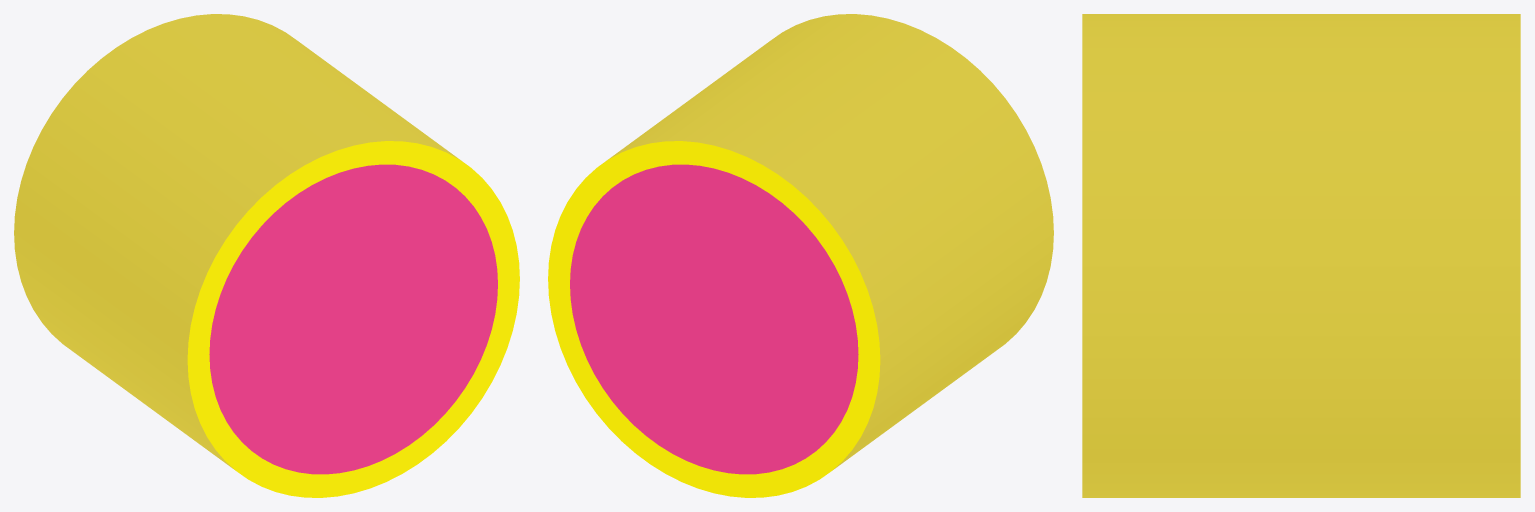
The model's file is dot1.glb.
3 views of the same model, side by side, from view 1: azimuth 30°, elevation 25°; view 2: azimuth 150°, elevation 25°; view 3: azimuth 270°, elevation 25° (orthographic). The views are drawn at different scales.
Parts seen in each view (by area): view 1: Cylinder; view 2: Cylinder; view 3: Cylinder.
Part boxes in pixels (x1=…): Cylinder: x1=14, y1=14, x2=519, y2=497; Cylinder: x1=548, y1=14, x2=1053, y2=497; Cylinder: x1=1082, y1=14, x2=1520, y2=497.
Size of the model in its own units: 1.15 by 1.15 by 1.04.
